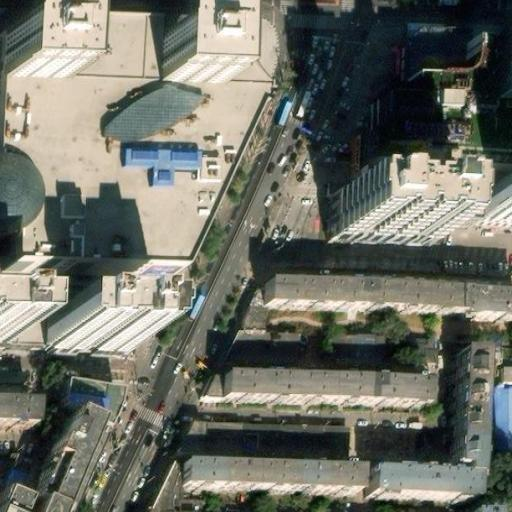building: (0, 34, 256, 280), (360, 22, 512, 215), (369, 353, 486, 505), (0, 410, 108, 512), (226, 369, 437, 407), (264, 282, 457, 317), (165, 456, 347, 493), (0, 303, 147, 342), (328, 200, 433, 246), (137, 36, 205, 102), (59, 375, 132, 426), (48, 307, 143, 341), (456, 293, 512, 325), (494, 384, 512, 456), (0, 400, 34, 430), (487, 184, 512, 215), (0, 306, 13, 339), (500, 365, 512, 384)
